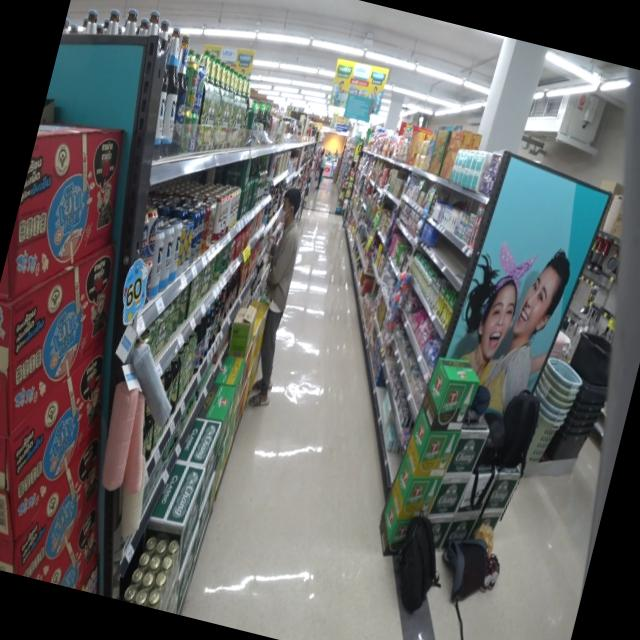shoplifting: (224, 182, 320, 410)
